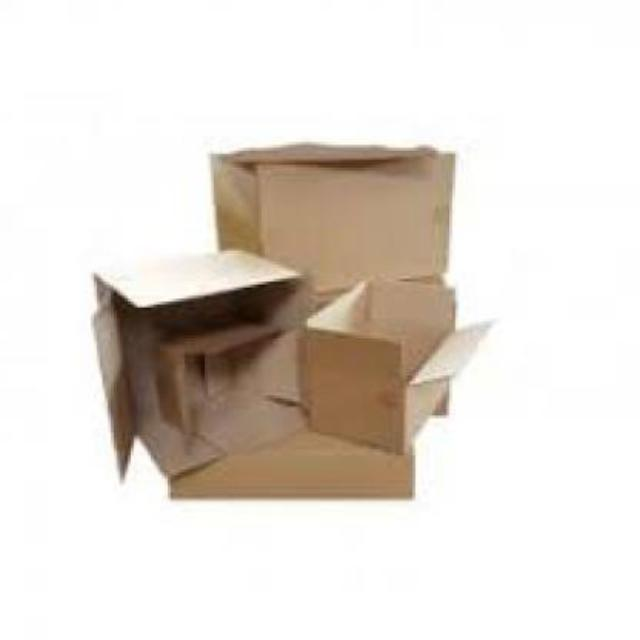cardboard_box: (75, 259, 315, 489), (215, 140, 450, 286), (297, 305, 447, 443)
